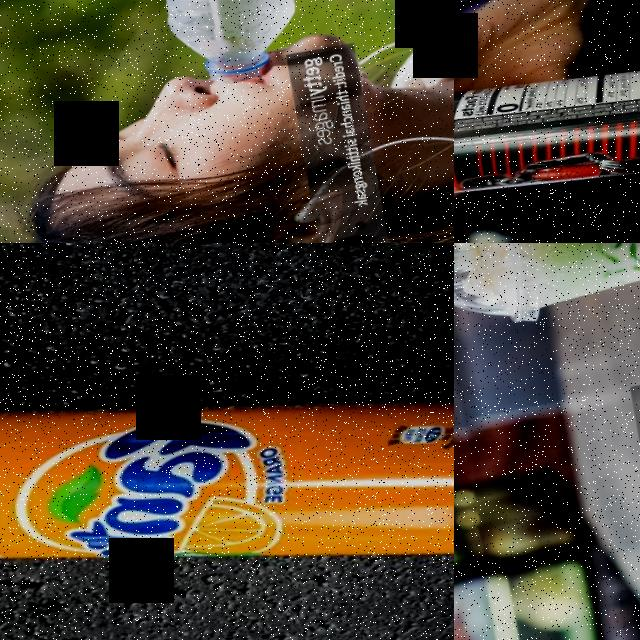bottle: (126, 0, 329, 89)
can: (0, 320, 454, 640), (454, 28, 640, 231)
cup: (454, 243, 640, 337)
